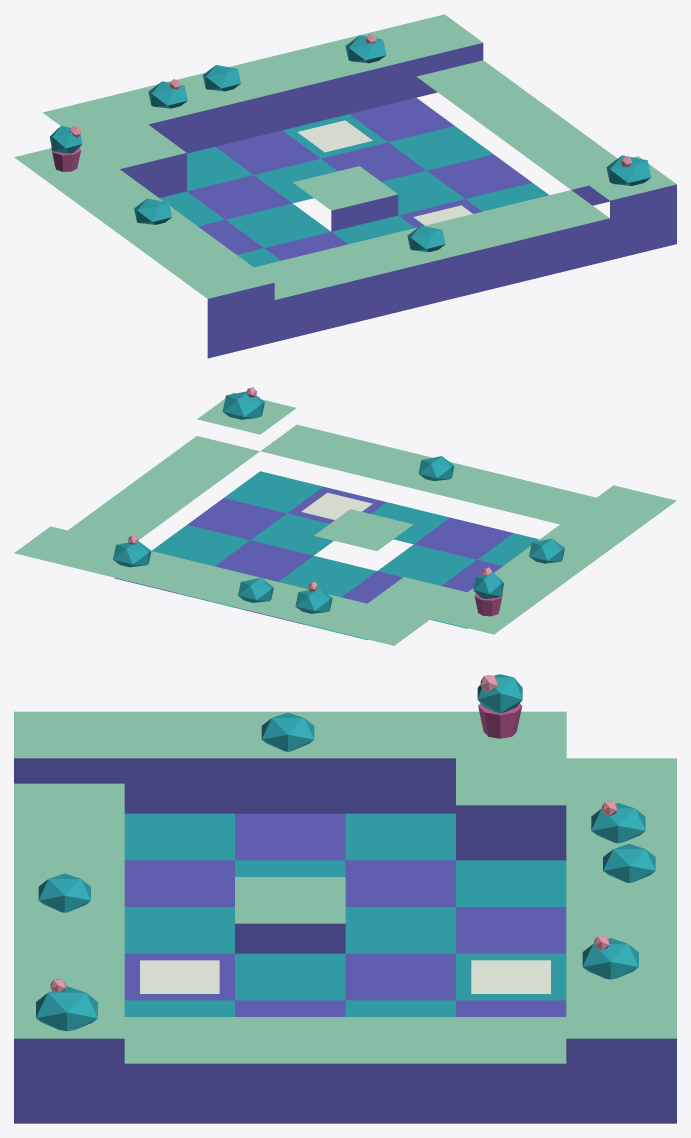
File: room1.glb
3 renders of one model, top to bottom at view 1: azimuth 30°, elevation 25°; view 2: azimuth 150°, elevation 25°; view 3: azimuth 270°, elevation 25°, orthographic. The views are drawn at different scales.
Parts seen in each view (by area): view 1: Room, Bush4, Bush1, Bush5, Bush0, Bush2, Bush6, PotLeaf3; view 2: Room, Bush4, Bush1, Bush5, Bush6, Bush0, Bush2, PotLeaf3, Pot3; view 3: Room, Bush4, Bush1, Bush6, Bush0, Bush2, Bush5, PotLeaf3, Pot3.
Part boxes in pixels (x1,y1,x2,y2): Room: [14, 14, 676, 358]; Bush4: [606, 155, 651, 185]; Bush1: [345, 35, 386, 63]; Bush5: [148, 81, 187, 108]; Bush0: [203, 65, 240, 91]; Bush2: [407, 225, 445, 251]; Bush6: [134, 198, 171, 224]; PotLeaf3: [49, 125, 82, 153]; Room: [14, 392, 676, 645]; Bush4: [222, 391, 264, 419]; Bush1: [113, 541, 151, 567]; Bush5: [295, 588, 332, 613]; Bush6: [529, 538, 564, 563]; Bush0: [238, 578, 273, 602]; Bush2: [418, 456, 454, 480]; PotLeaf3: [473, 572, 504, 598]; Pot3: [474, 593, 502, 616]; Room: [14, 711, 676, 1123]; Bush4: [36, 986, 97, 1031]; Bush1: [582, 938, 638, 979]; Bush6: [261, 712, 314, 751]; Bush0: [603, 843, 655, 882]; Bush2: [38, 873, 90, 912]; Bush5: [591, 803, 645, 843]; PotLeaf3: [477, 674, 522, 713]; Pot3: [478, 703, 521, 738].
Bounding box in the file's own units: 7 × 1.45 × 6.
